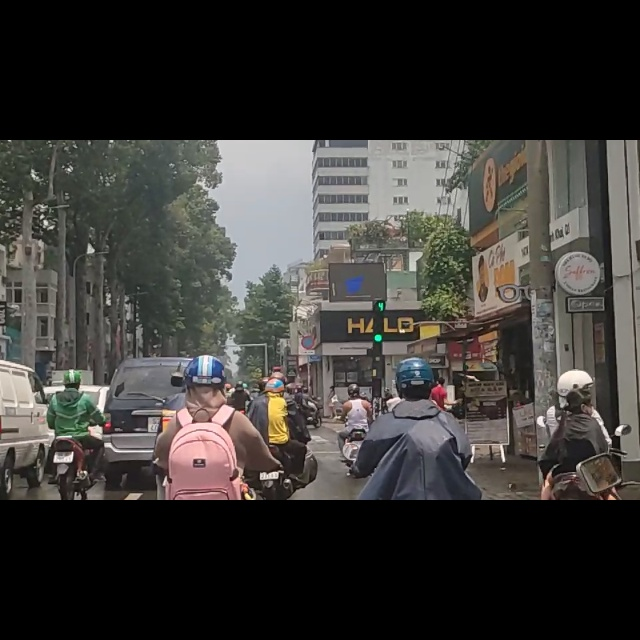bien_cam: (300, 346, 315, 373)
